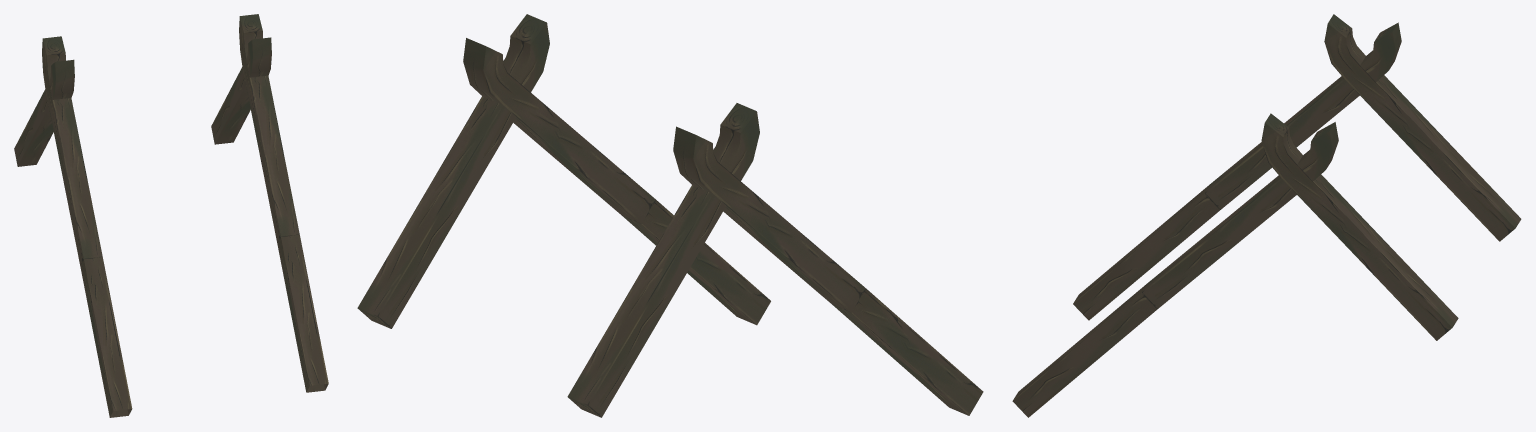
The model's file is polysurface526_txt_poutre_inc_0_lev1_lev2.glb.
3 renders of one model, left to right at view 1: azimuth 30°, elevation 25°; view 2: azimuth 150°, elevation 25°; view 3: azimuth 270°, elevation 25°, orthographic. The views are drawn at different scales.
Parts seen in each view (by area): view 1: polysurface526_txt_poutre_inc_0_lev1_lev2; view 2: polysurface526_txt_poutre_inc_0_lev1_lev2; view 3: polysurface526_txt_poutre_inc_0_lev1_lev2.
Part boxes in pixels (x1,y1,x2,y2): polysurface526_txt_poutre_inc_0_lev1_lev2: [14, 14, 328, 417]; polysurface526_txt_poutre_inc_0_lev1_lev2: [357, 14, 983, 417]; polysurface526_txt_poutre_inc_0_lev1_lev2: [1012, 14, 1521, 417].
Bounding box in the file's own units: 9.87 × 9.37 × 13.36.
Materials: 1 (1 with a texture image).
